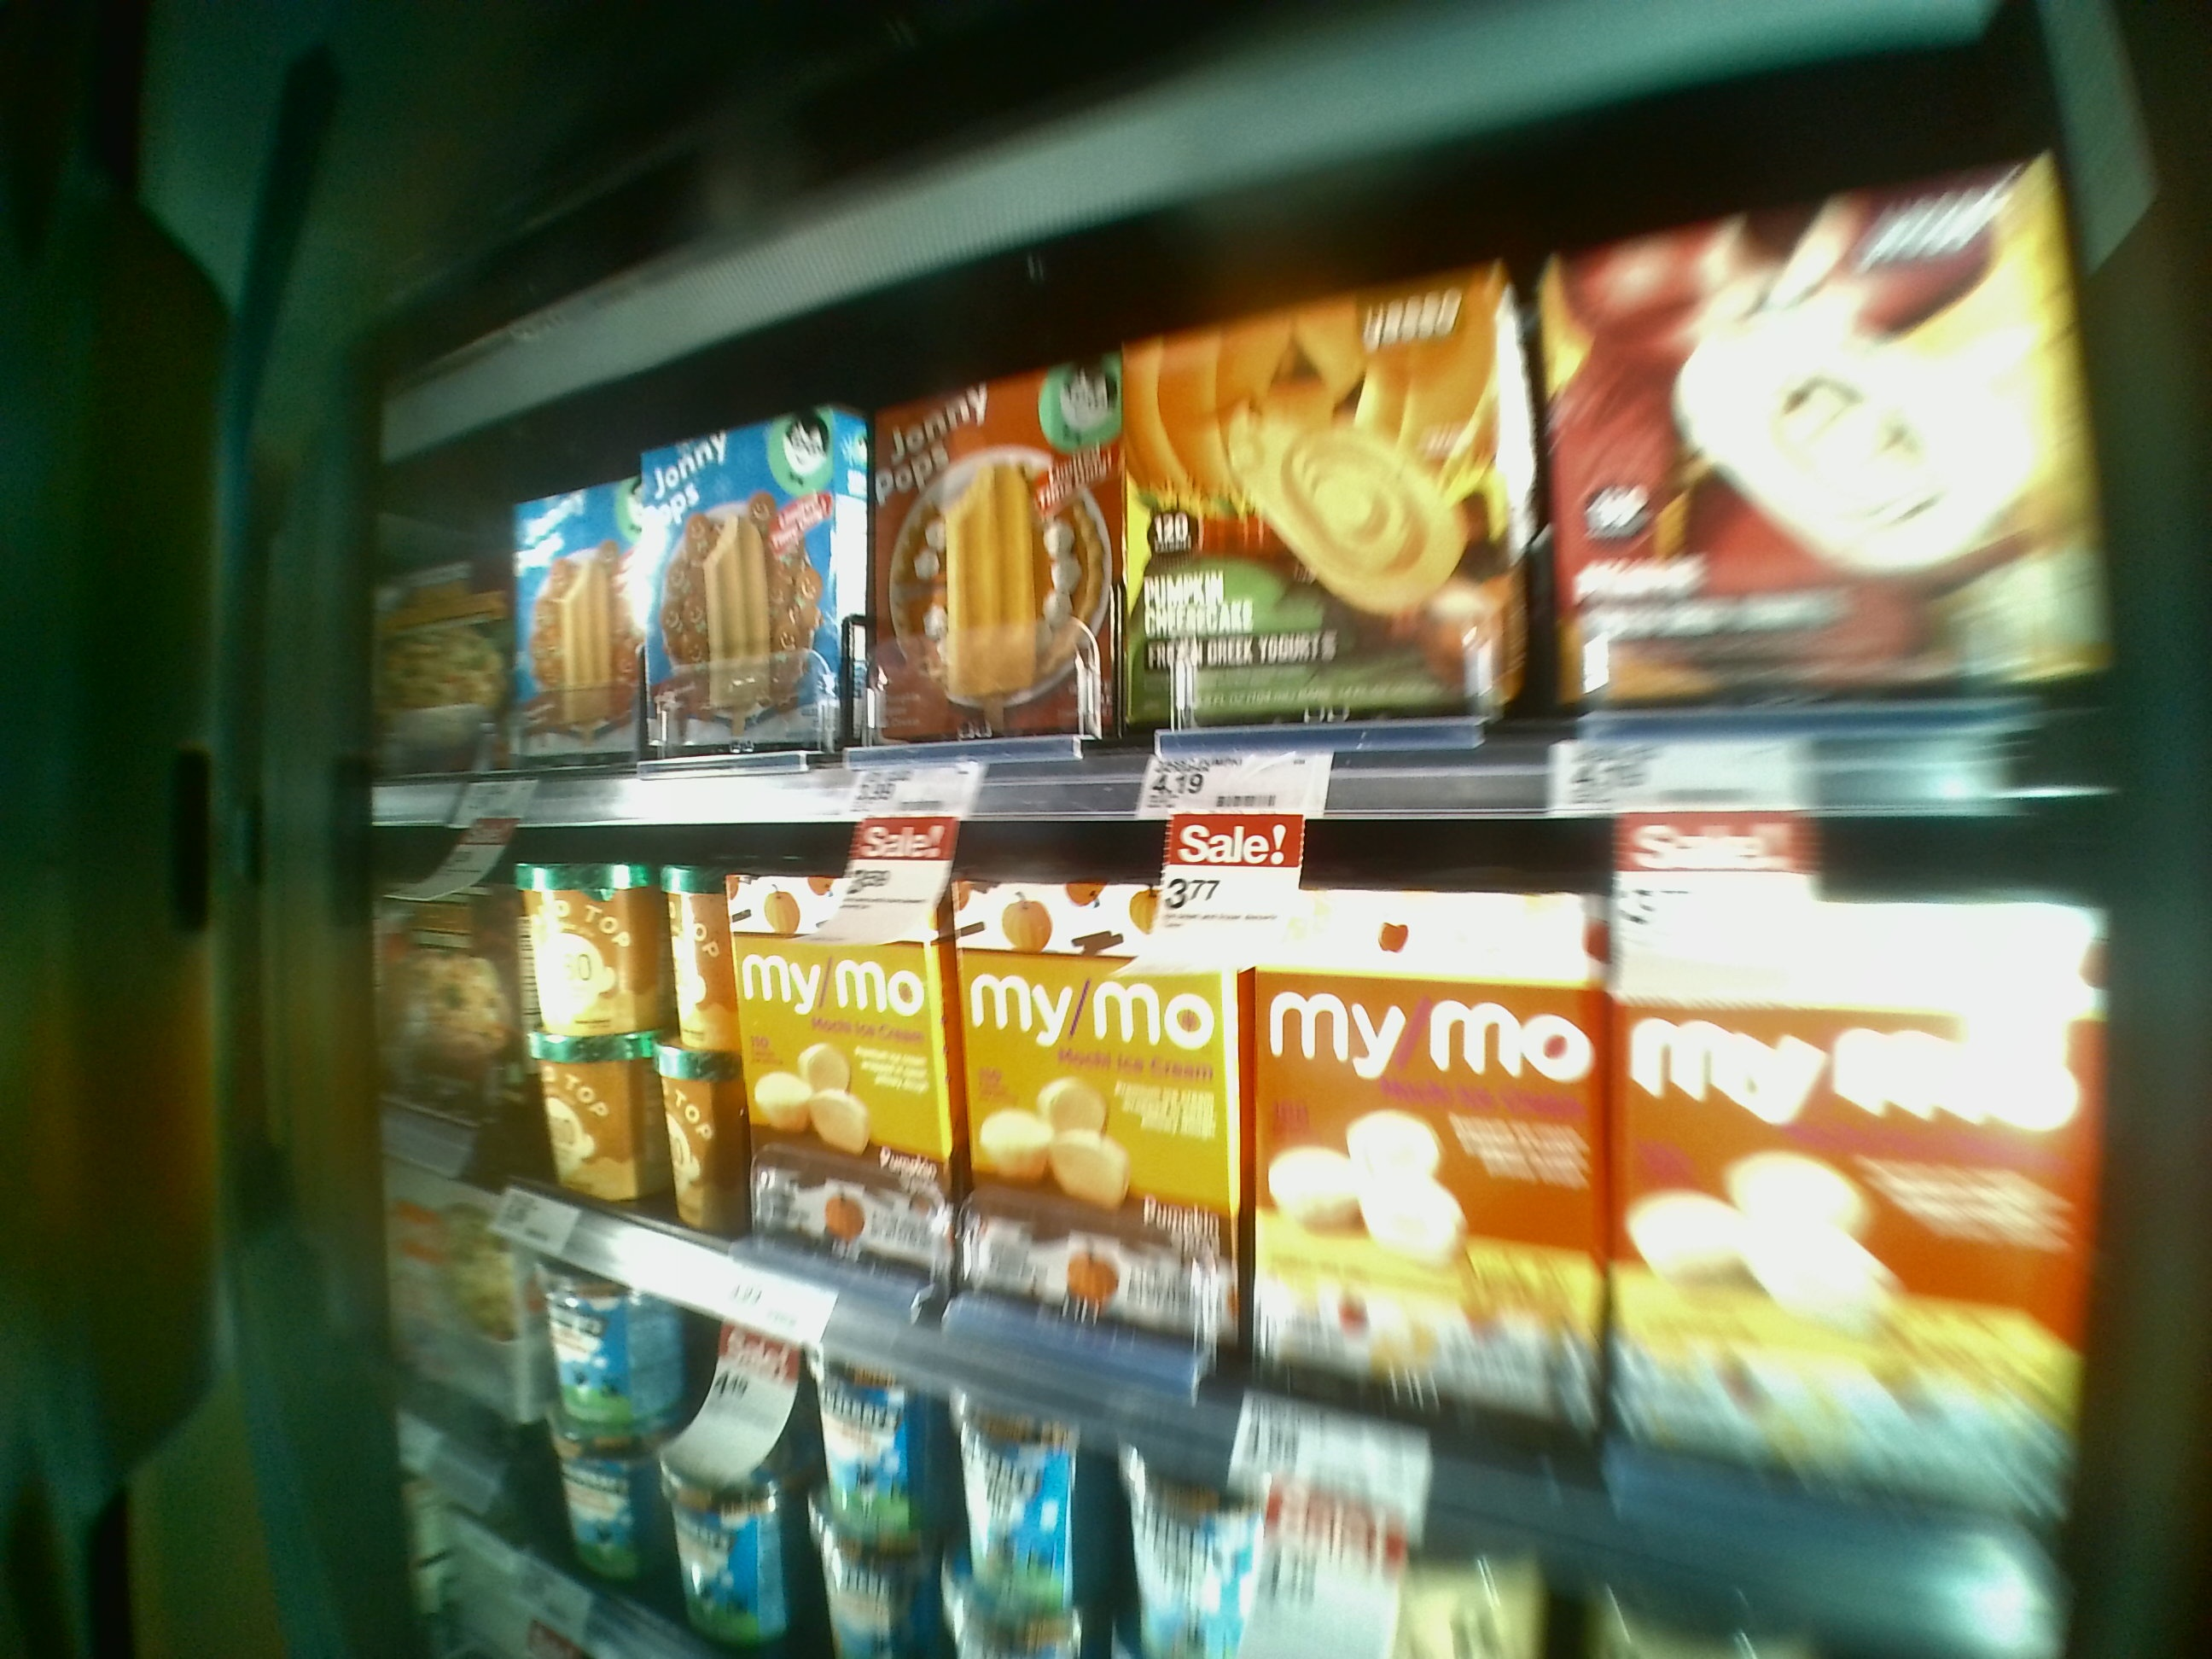shelf: (449, 228, 2076, 791)
